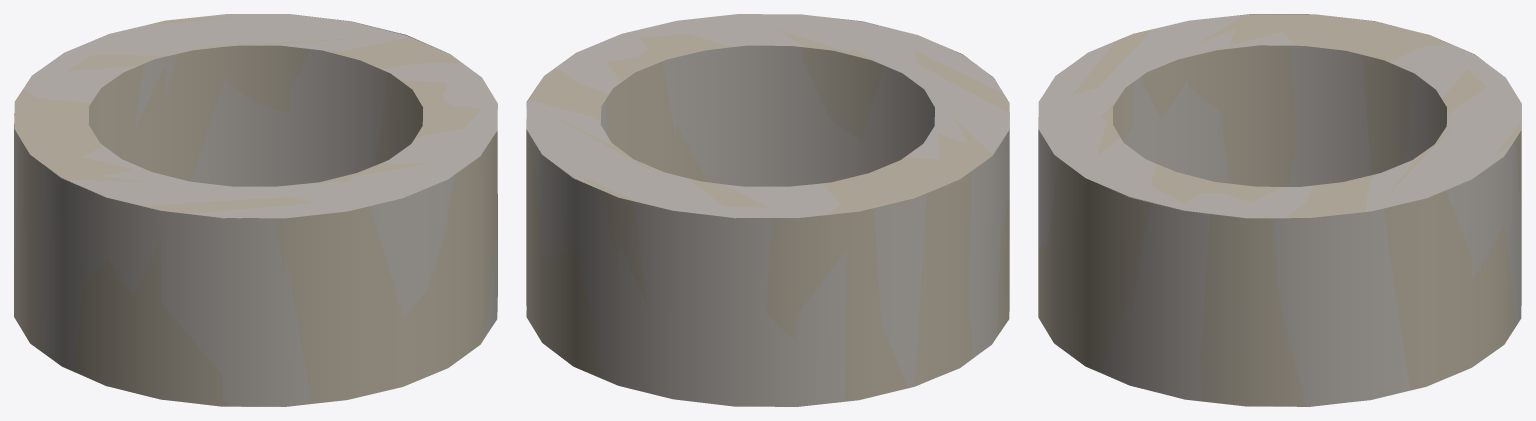
The model's file is original-6.obj.
3 renders of one model, left to right at view 1: azimuth 30°, elevation 25°; view 2: azimuth 150°, elevation 25°; view 3: azimuth 270°, elevation 25°, orthographic.
Visible parts, largest first — view 1: #ID215; view 2: #ID215; view 3: #ID215.
Boxes of the visible parts, x1,y1,x2,y2 form: #ID215: [14, 14, 497, 406]; #ID215: [526, 14, 1009, 406]; #ID215: [1038, 14, 1521, 406].
Bounding box in the file's own units: 0.1681 × 0.0724 × 0.1681.
